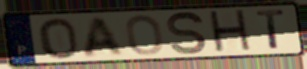A: (82, 15, 127, 59)
H: (206, 8, 254, 56)
O: (36, 16, 81, 60), (124, 14, 165, 57)
S: (165, 10, 209, 57)
T: (254, 9, 288, 51)
